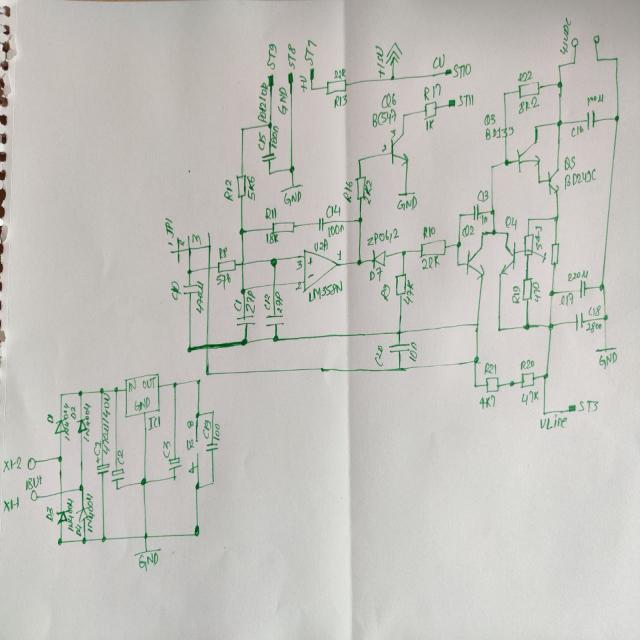capacitor: (583, 105, 598, 132), (264, 313, 284, 327), (95, 456, 109, 475), (387, 341, 407, 354), (235, 314, 253, 327), (168, 456, 182, 472), (574, 311, 584, 332), (578, 279, 588, 300), (110, 467, 124, 482), (261, 151, 276, 163), (472, 204, 482, 222), (182, 282, 194, 296), (205, 441, 219, 452), (317, 213, 324, 233)
crossover: (204, 342, 210, 351), (240, 260, 246, 268), (206, 264, 212, 271), (271, 281, 276, 289), (58, 490, 64, 496)
diode: (370, 247, 386, 273), (56, 508, 68, 525), (54, 418, 66, 435), (76, 506, 88, 523), (76, 418, 86, 433)
ground: (133, 547, 161, 557), (279, 182, 303, 193), (593, 344, 617, 352), (396, 190, 416, 197)
junction: (269, 256, 278, 268), (598, 281, 606, 293), (139, 476, 147, 487), (192, 525, 200, 536), (454, 239, 462, 249), (287, 164, 295, 174), (522, 320, 530, 330), (502, 156, 510, 166), (472, 354, 480, 364), (271, 332, 279, 342), (547, 288, 555, 298), (55, 452, 63, 462), (507, 378, 515, 388), (240, 336, 248, 345), (185, 267, 193, 276), (547, 320, 554, 330), (355, 257, 362, 267), (238, 226, 245, 236), (77, 482, 84, 492), (396, 364, 404, 372), (555, 118, 562, 127), (100, 533, 106, 543), (556, 79, 562, 89), (186, 343, 192, 353), (57, 536, 63, 546), (112, 385, 119, 393), (98, 386, 105, 394), (400, 248, 406, 257), (194, 481, 200, 490), (194, 410, 200, 419), (239, 285, 245, 294), (266, 121, 272, 130), (356, 215, 362, 223), (613, 113, 619, 121), (594, 55, 600, 63), (142, 532, 148, 540), (77, 389, 83, 397), (553, 213, 559, 221), (171, 380, 177, 388), (496, 325, 502, 333), (389, 74, 395, 82), (613, 54, 619, 62), (400, 110, 406, 118), (396, 328, 402, 336), (204, 368, 210, 376), (195, 377, 201, 385), (602, 314, 608, 322), (171, 474, 177, 482), (479, 230, 485, 238), (542, 372, 548, 379), (356, 156, 362, 163), (454, 260, 460, 267), (57, 391, 63, 398), (488, 162, 494, 169), (266, 169, 272, 176), (533, 123, 539, 130), (571, 59, 577, 65), (210, 408, 216, 414), (504, 230, 510, 236), (536, 177, 541, 184), (457, 211, 462, 218), (210, 479, 215, 486), (491, 228, 496, 235), (474, 321, 479, 328), (82, 536, 86, 544), (501, 90, 506, 96), (526, 215, 530, 222), (240, 125, 244, 131), (556, 62, 560, 68), (473, 382, 477, 388), (115, 486, 119, 492), (542, 411, 546, 416), (309, 87, 313, 91)
resistor: (522, 232, 546, 264), (419, 237, 447, 259), (515, 79, 540, 98), (483, 374, 501, 397), (324, 78, 348, 95), (271, 219, 295, 235), (394, 272, 408, 298), (519, 371, 536, 391), (548, 241, 561, 266), (216, 259, 238, 273), (235, 173, 247, 198), (355, 174, 366, 200), (423, 100, 437, 119), (521, 276, 531, 302)
source: (385, 40, 403, 66)
switch: (167, 231, 213, 263)
terminal: (26, 456, 36, 471), (266, 73, 274, 87), (447, 97, 456, 109), (29, 489, 38, 501), (286, 71, 294, 84), (567, 403, 577, 413), (570, 36, 578, 48), (308, 67, 314, 81), (444, 67, 452, 77), (592, 34, 599, 44), (195, 437, 199, 443), (196, 451, 200, 456)
text: (563, 164, 598, 191), (308, 279, 342, 303), (366, 226, 398, 246), (370, 107, 398, 129), (557, 16, 571, 55), (482, 124, 514, 141), (102, 392, 110, 455), (576, 397, 600, 417), (257, 79, 267, 125), (263, 41, 278, 71), (539, 413, 567, 429), (516, 95, 539, 114), (303, 36, 317, 66), (373, 44, 385, 79), (84, 491, 94, 533), (402, 278, 416, 307), (138, 551, 158, 571), (419, 252, 441, 270), (244, 287, 258, 315), (276, 85, 288, 116), (82, 401, 91, 442), (598, 351, 617, 370), (476, 392, 496, 410), (285, 40, 297, 70), (566, 266, 588, 282), (423, 82, 441, 101), (194, 280, 204, 314), (2, 455, 22, 472), (268, 122, 280, 150), (396, 195, 418, 210), (24, 474, 42, 492), (2, 495, 20, 513), (452, 62, 472, 78), (283, 189, 301, 206), (586, 318, 604, 335), (584, 92, 604, 107), (66, 495, 74, 532), (520, 388, 538, 404), (516, 68, 534, 84), (273, 288, 285, 312), (380, 92, 396, 110), (63, 402, 70, 442), (246, 174, 256, 202), (260, 290, 272, 313), (379, 281, 391, 304), (342, 177, 353, 202), (216, 273, 232, 290), (562, 154, 578, 171), (368, 266, 383, 284), (223, 176, 233, 202), (363, 179, 373, 205), (568, 122, 584, 138), (475, 188, 491, 204), (135, 396, 151, 412), (504, 213, 518, 231), (456, 93, 474, 107), (170, 278, 180, 302), (558, 291, 574, 306), (325, 203, 341, 218), (313, 237, 329, 252), (326, 222, 344, 235), (374, 344, 384, 367), (532, 280, 542, 303), (422, 225, 437, 240), (264, 203, 278, 219), (147, 414, 161, 430), (431, 53, 445, 69), (586, 303, 602, 317), (164, 216, 174, 238), (256, 130, 266, 152), (534, 224, 542, 251), (510, 283, 520, 304), (333, 94, 347, 109), (519, 358, 535, 371), (408, 341, 418, 361), (483, 362, 497, 376), (202, 417, 210, 441), (460, 223, 474, 236), (483, 113, 496, 126), (212, 421, 220, 442), (332, 68, 346, 80), (163, 438, 171, 458), (44, 505, 54, 521), (267, 232, 279, 245), (299, 73, 307, 92), (232, 296, 242, 311), (94, 438, 102, 456), (142, 376, 154, 388), (116, 448, 124, 466), (184, 437, 194, 451), (188, 233, 200, 244), (424, 118, 434, 131), (69, 404, 77, 420), (478, 212, 488, 224), (218, 245, 227, 258), (46, 411, 54, 424), (128, 378, 136, 391), (189, 461, 198, 472), (185, 419, 193, 431), (294, 259, 302, 271), (76, 521, 82, 536), (294, 280, 302, 291), (389, 128, 396, 139), (336, 249, 342, 261), (178, 237, 185, 246), (489, 207, 495, 216), (307, 255, 313, 264), (381, 144, 387, 152), (166, 238, 172, 246), (308, 271, 314, 278)
transistor: (514, 138, 540, 174), (464, 245, 486, 279), (498, 237, 516, 274), (390, 131, 408, 167), (545, 165, 562, 199)
